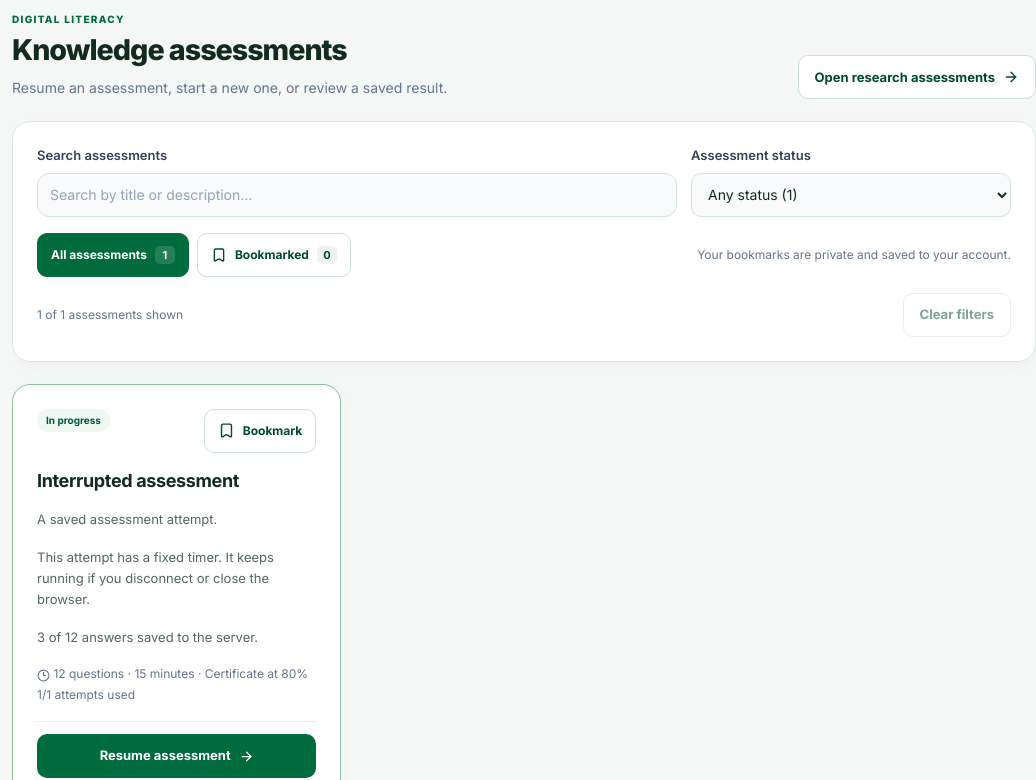
Test: assessment interruption status › resumes an unfinished attempt before its deadline, even when the attempt limit is used
The image size is (1036, 780).
Expected: the text "In progress" is shown, [37,409,110,432]
Expected: the text "This attempt has a fixed timer" is shown, [37,549,274,608]
Click the link "Resume assessment" at (177,756), box [37,734,316,778]
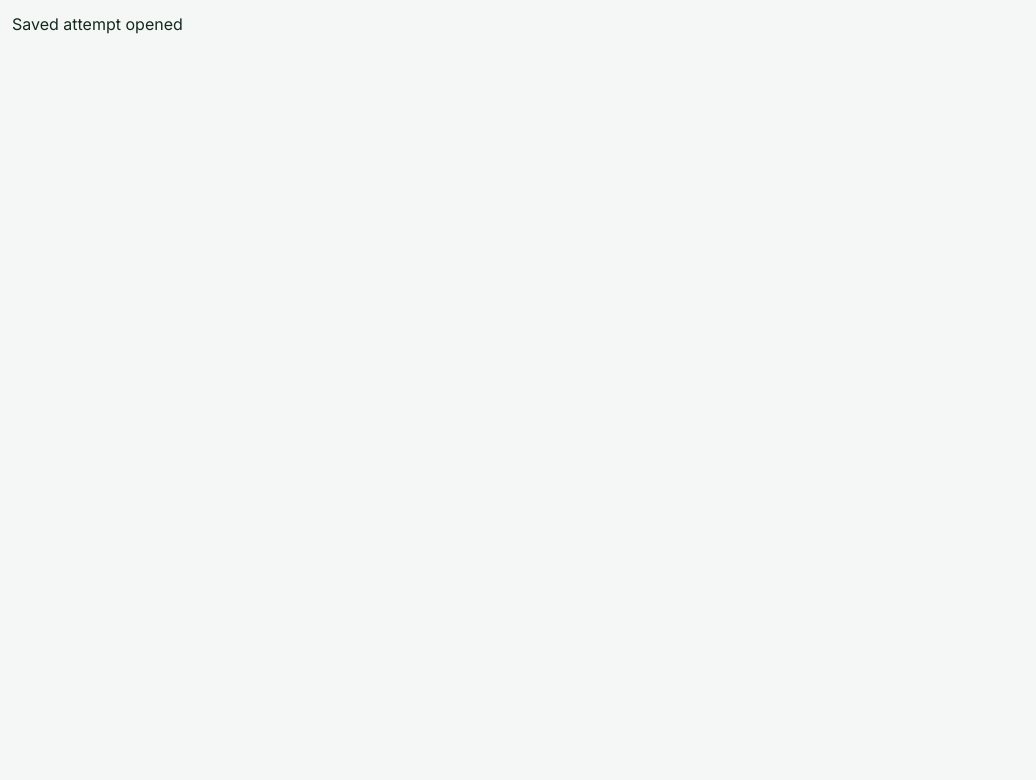
Expected: the text "Saved attempt opened" is shown, [12,14,183,34]
